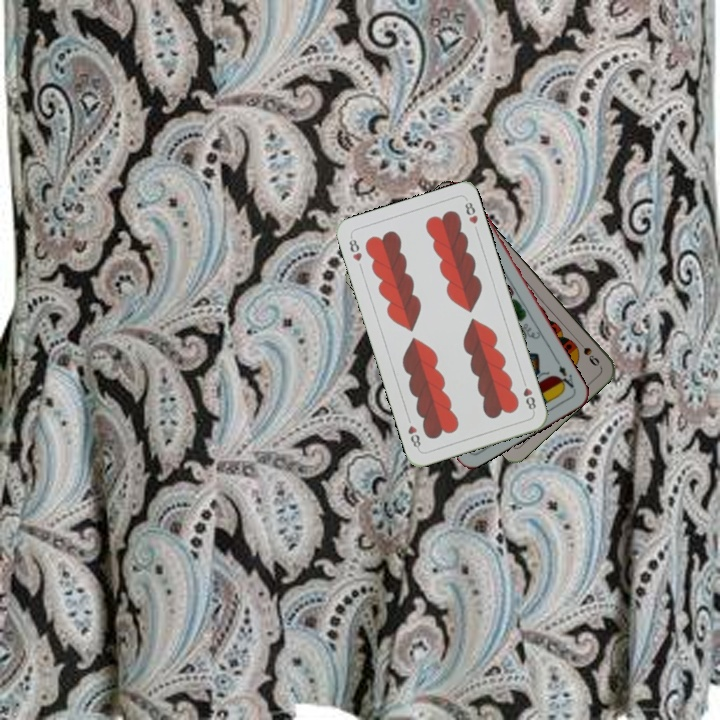EA: (553, 361, 578, 393)
H8: (518, 375, 539, 415), (345, 232, 364, 264)
S9: (572, 335, 602, 369)
